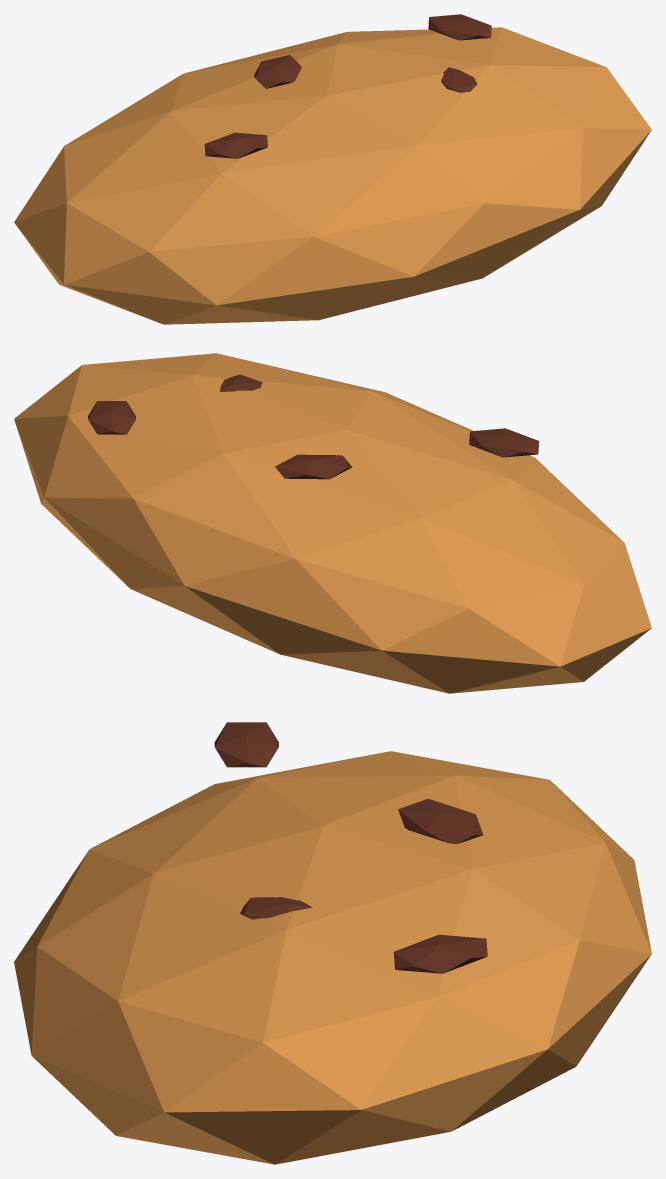
The model's file is FTF_Ingredient_FriedChicken.glb.
3 views of the same model, one above another, from view 1: azimuth 30°, elevation 25°; view 2: azimuth 150°, elevation 25°; view 3: azimuth 270°, elevation 25° (orthographic). The views are drawn at different scales.
Parts seen in each view (by area): view 1: FTF_Ingredient_FriedChicken_StaticMesh; view 2: FTF_Ingredient_FriedChicken_StaticMesh; view 3: FTF_Ingredient_FriedChicken_StaticMesh.
Boxes of the visible parts, x1,y1,x2,y2 form: FTF_Ingredient_FriedChicken_StaticMesh: (14, 14, 651, 324); FTF_Ingredient_FriedChicken_StaticMesh: (14, 353, 651, 693); FTF_Ingredient_FriedChicken_StaticMesh: (14, 722, 651, 1164).
Bounding box in the file's own units: 0.887 × 0.2688 × 0.5921.
